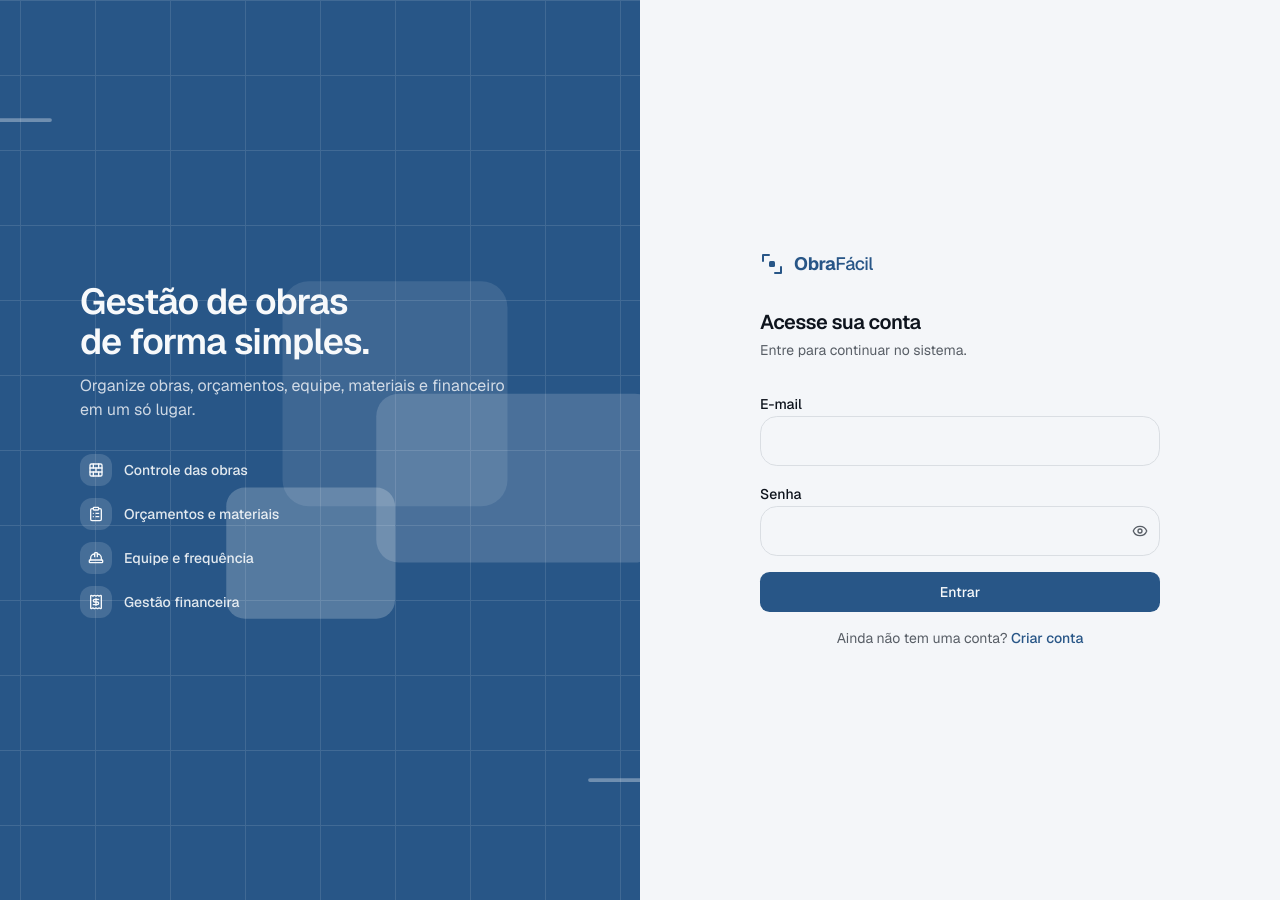
Test: LoginForm › shows a generic error message on invalid credentials
Type "jefferson@example.com" into the field labelled "E-mail" at {"x": 960, "y": 441}, box [760,416,1160,466]
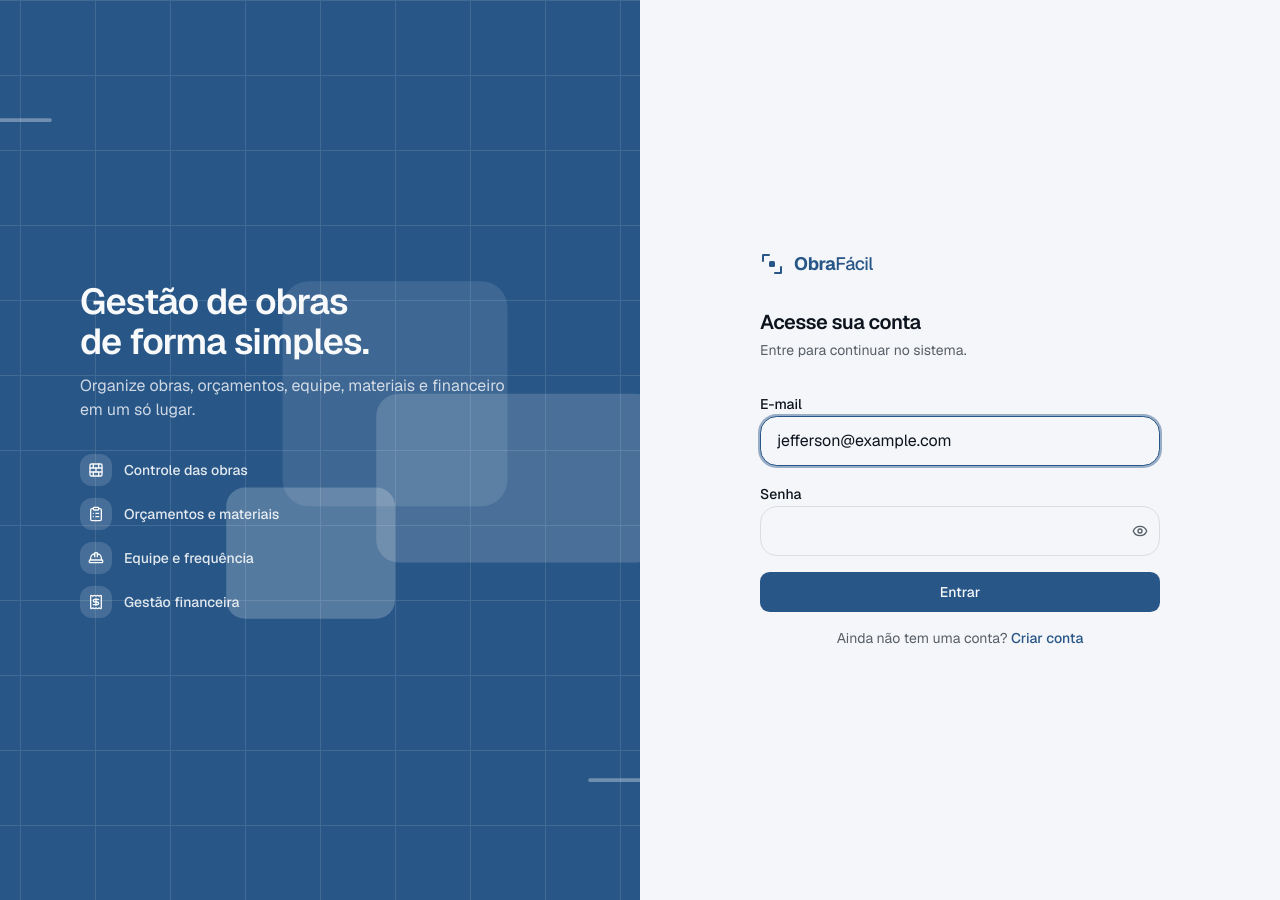
Type "wrong-password" into the password field labelled "Senha" at {"x": 960, "y": 531}, box [760,506,1160,556]
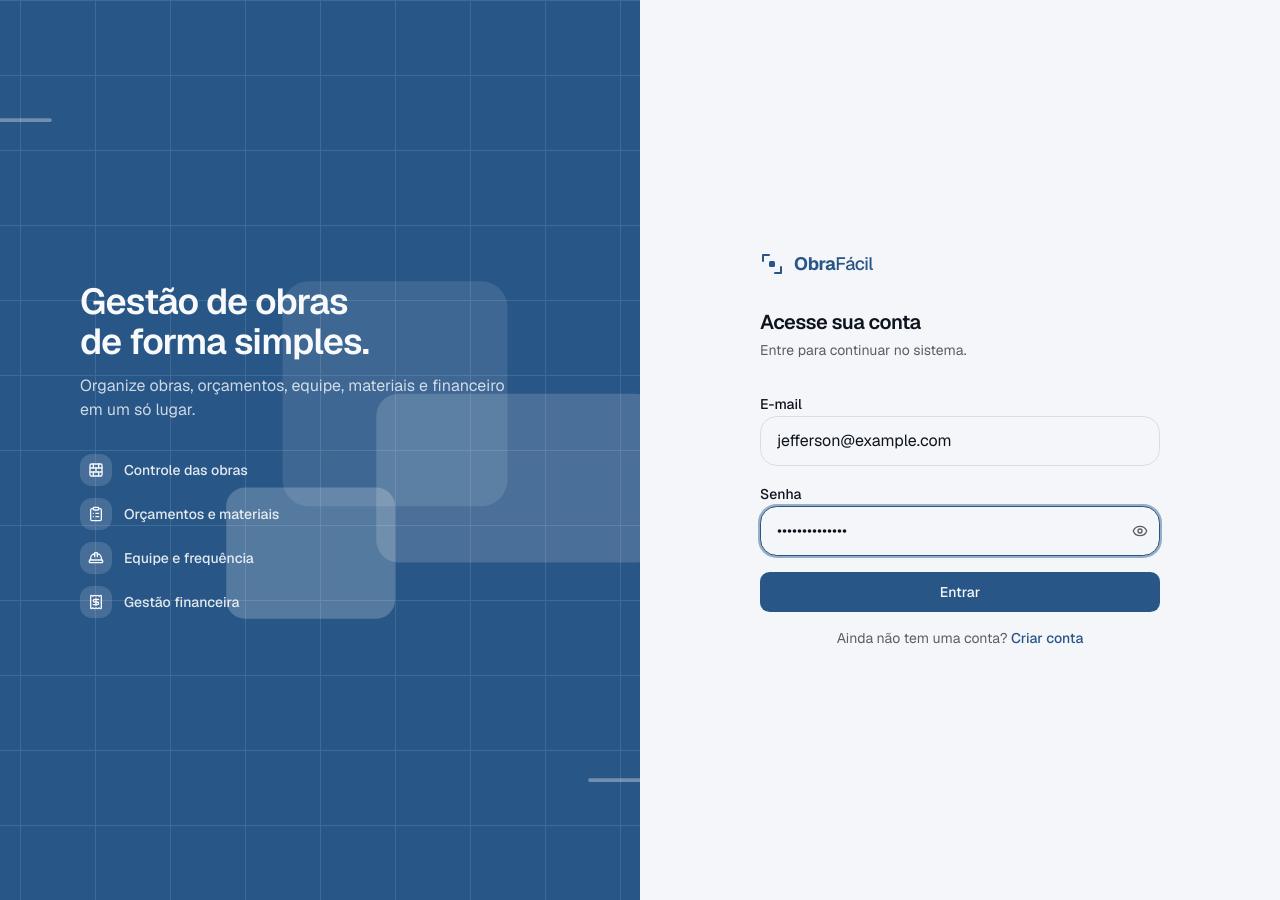
Click the button "Entrar" at {"x": 960, "y": 592}, box [760,572,1160,612]
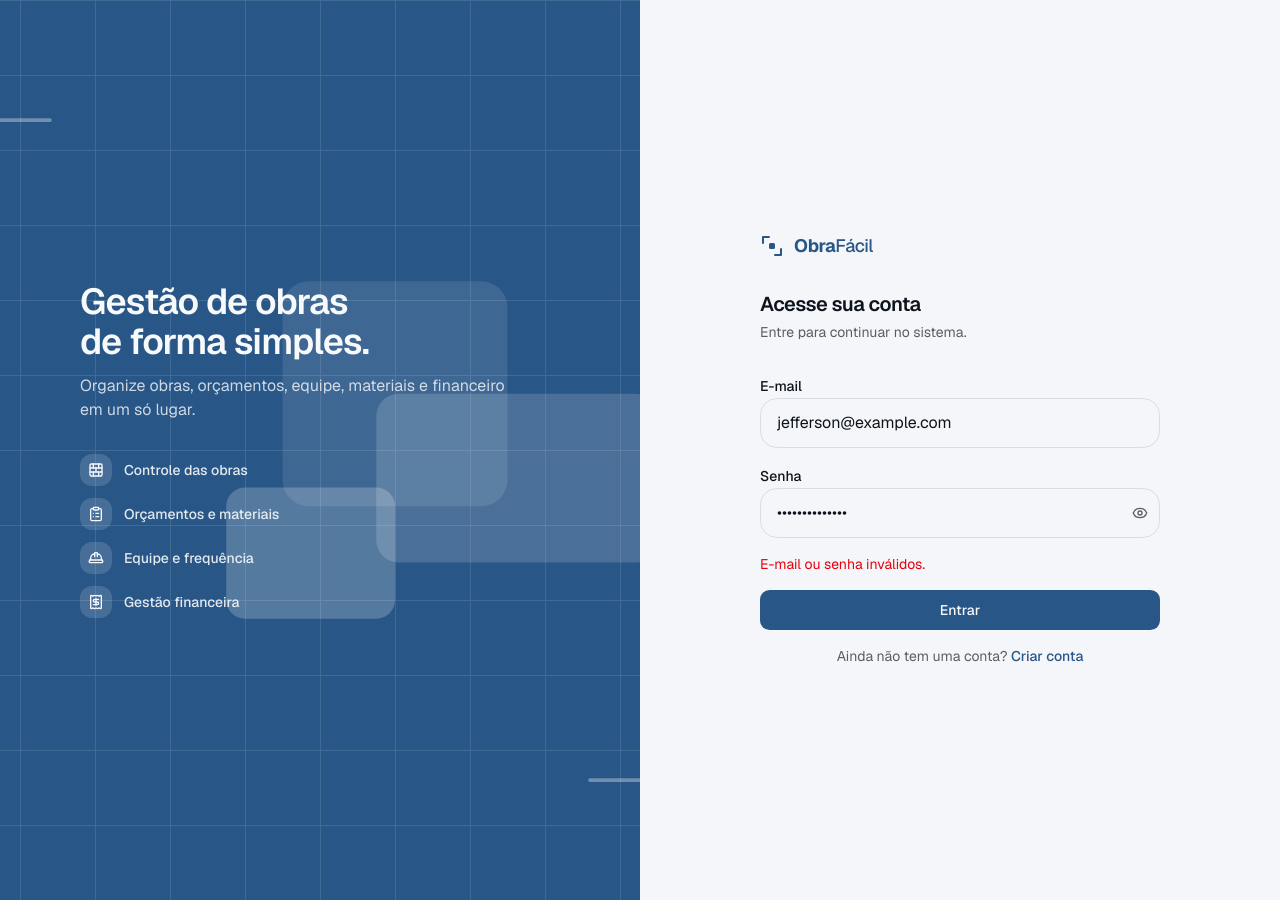
Expected: the message reads "E-mail ou senha inválidos.", [760,555,925,573]
